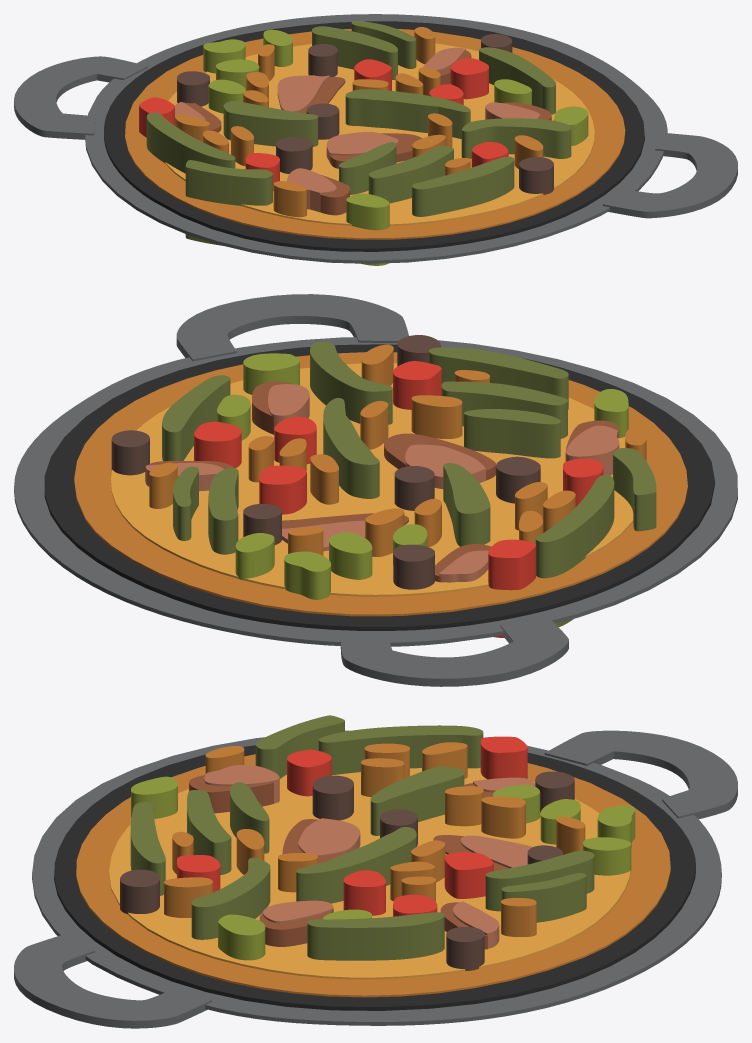
Rendered from emoji_u1f958.glb.
The picture shows the model from 3 angles, top to bottom: view 1: azimuth 30°, elevation 25°; view 2: azimuth 150°, elevation 25°; view 3: azimuth 270°, elevation 25°; orthographic projection. The views are drawn at different scales.
Parts seen in each view (by area): view 1: emoji_u1f958; view 2: emoji_u1f958; view 3: emoji_u1f958.
Part boxes in pixels (x1,y1,x2,y2): emoji_u1f958: (14, 14, 737, 265); emoji_u1f958: (14, 294, 737, 686); emoji_u1f958: (14, 715, 737, 1028).
Size of the model in its own units: 0.0325 by 0.0044 by 0.034.
